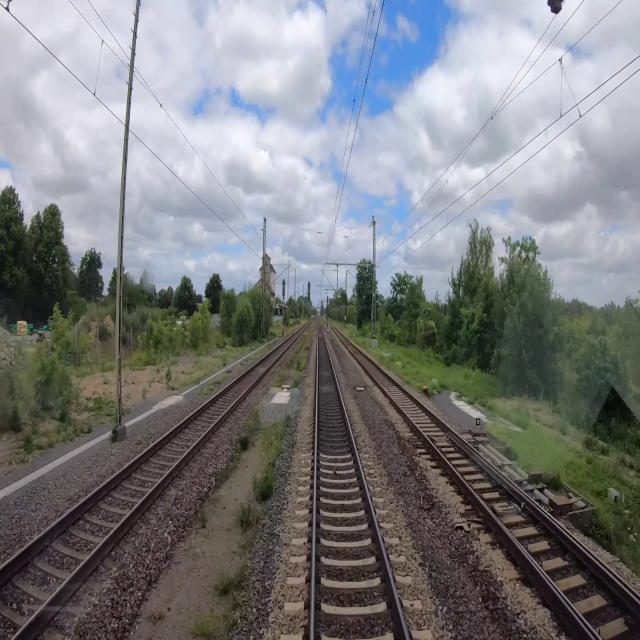Plant: (252, 415, 290, 501), (238, 501, 262, 553), (191, 615, 232, 639), (214, 566, 247, 594), (224, 589, 241, 623), (216, 465, 235, 488), (248, 406, 261, 435), (274, 370, 286, 388), (238, 433, 249, 450), (198, 511, 207, 529), (292, 371, 301, 388), (232, 448, 241, 464), (298, 353, 306, 370), (241, 551, 248, 570), (295, 340, 304, 353), (288, 353, 296, 364), (304, 336, 310, 350), (284, 361, 289, 370), (306, 330, 309, 336)
